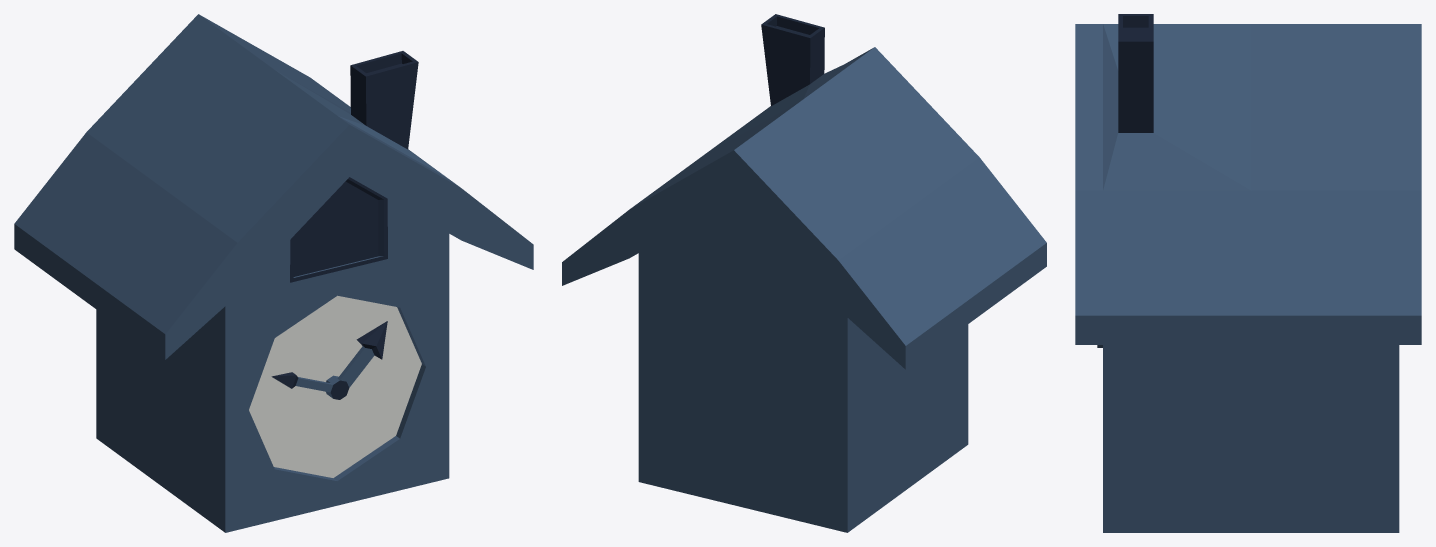
Rendered from CooCooHouse.fbx.
3 renders of one model, left to right at view 1: azimuth 30°, elevation 25°; view 2: azimuth 150°, elevation 25°; view 3: azimuth 270°, elevation 25°, orthographic. The views are drawn at different scales.
Visible parts, largest first — view 1: CooCoo_House; view 2: CooCoo_House; view 3: CooCoo_House.
Boxes of the visible parts, x1,y1,x2,y2 form: CooCoo_House: (14,14,533,532); CooCoo_House: (562,14,1046,532); CooCoo_House: (1075,14,1421,532).
Size of the model in its own units: 329 by 356 by 234.
